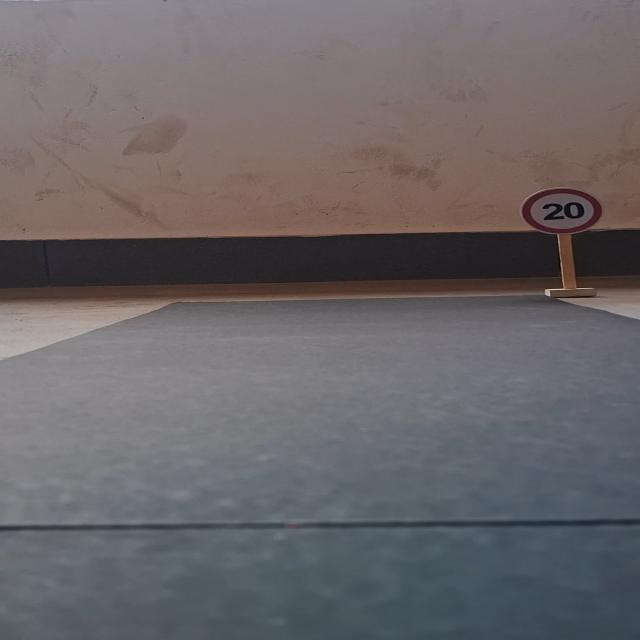Speed20: (508, 183, 610, 237)
